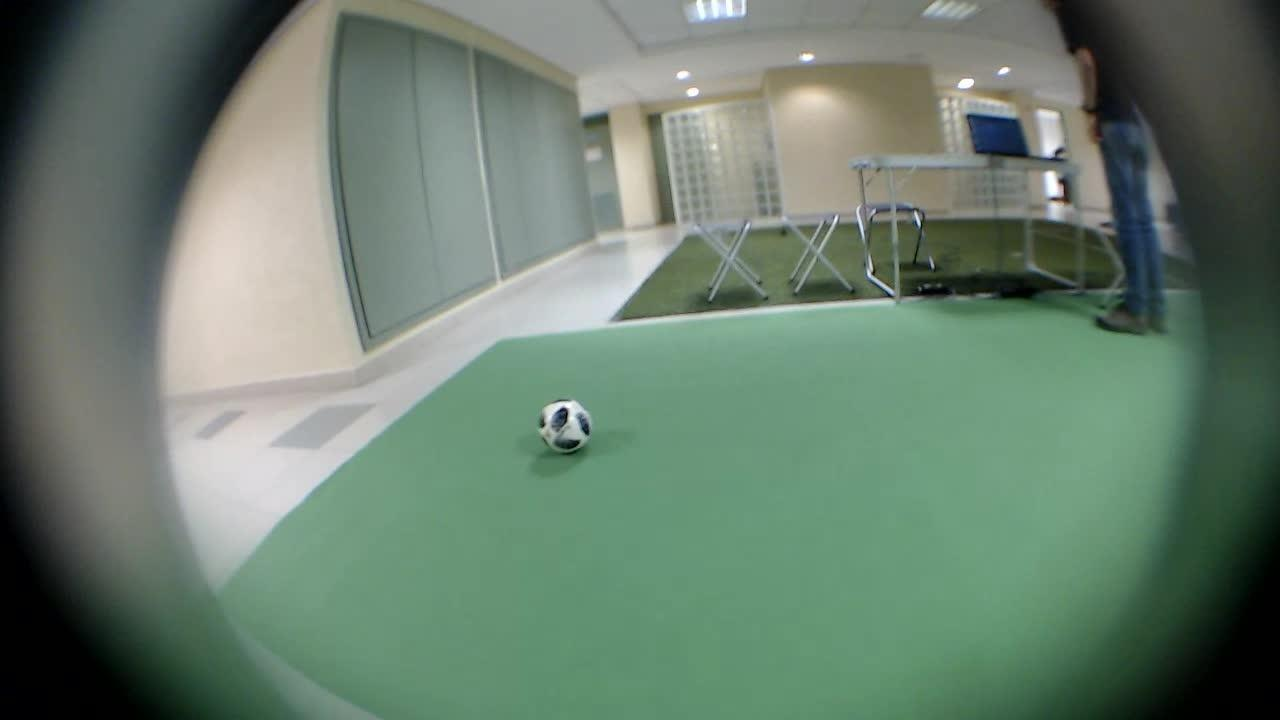ball: (526, 381, 600, 459)
